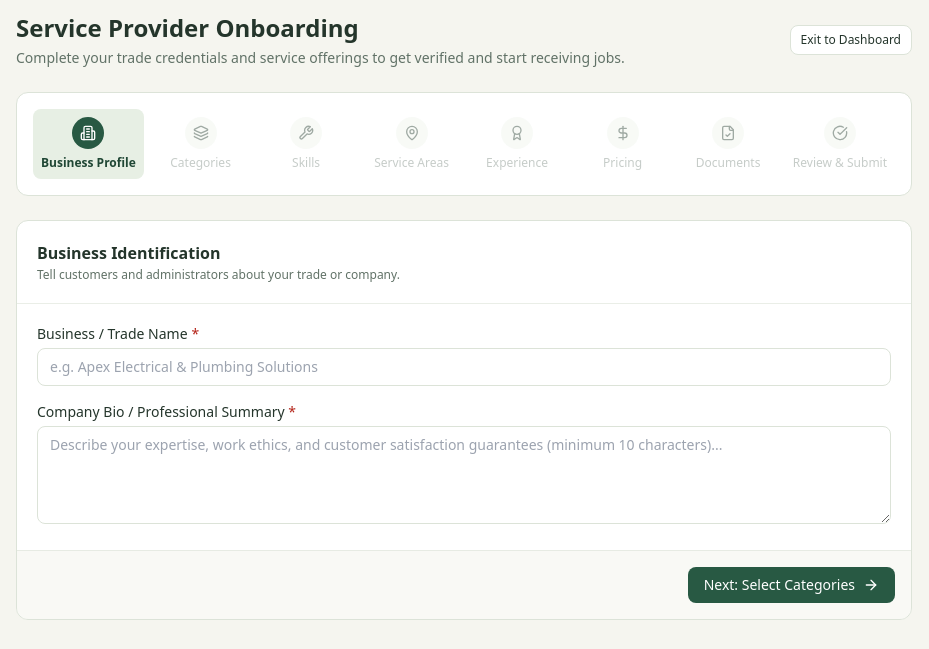
Test case: Milestone 4: Provider Onboarding, Profile & Admin Verification Frontend › ProviderOnboardingWizard: Category Selection & Resilience › should render empty state when API succeeds with zero categories
Type "Apex Co" into the field with placeholder "e.g. Apex Electrical & Plumbing Solutions" at point(464, 367), box [37,348,891,386]
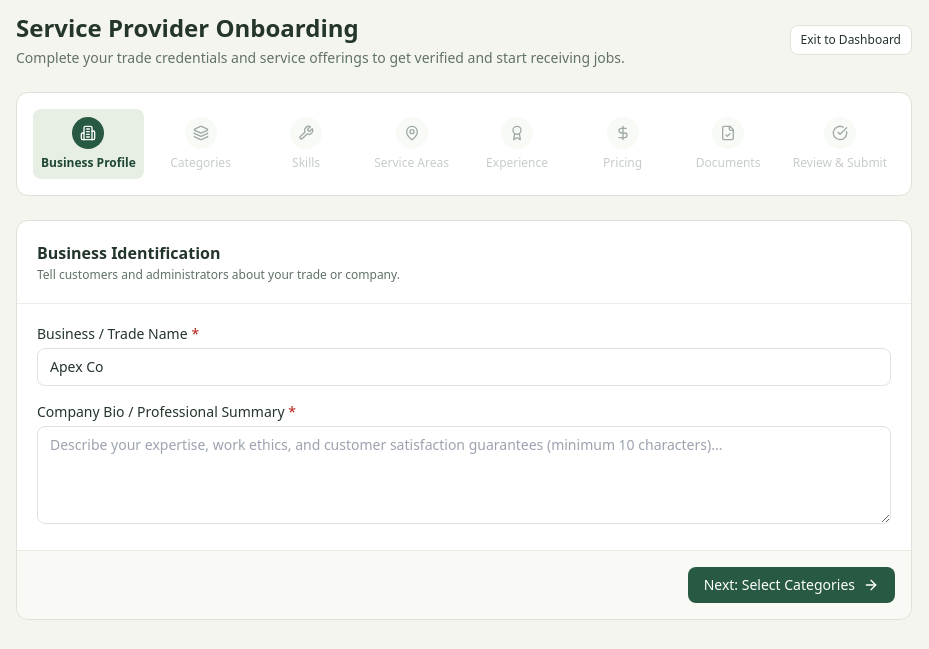
Replace the text in the text box with placeholder "Describe your expertise" with "Valid description with more than ten characters." at point(464, 475), box [37,426,891,524]
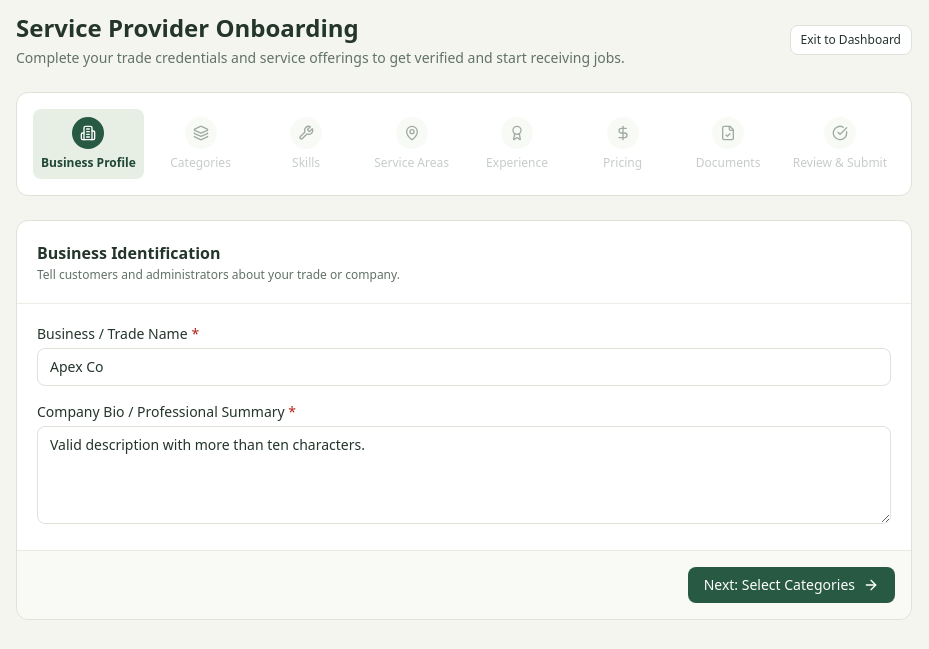
Click the button "Next: Select Categories" at point(791, 585), box [688,567,895,603]
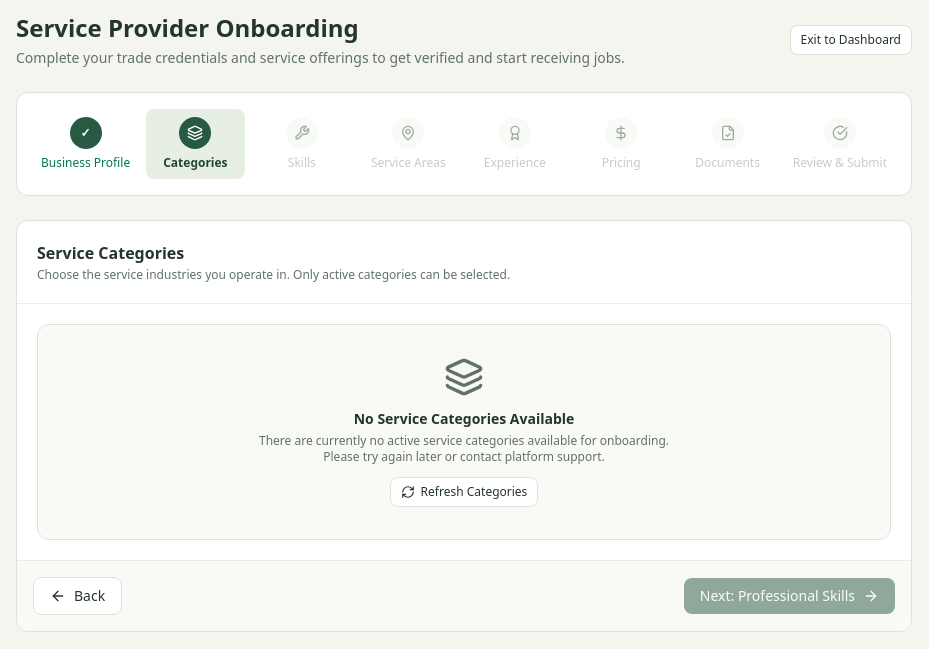
Expected: the heading "No Service Categories Available" is shown, [354,409,574,428]
Expected: the button "Refresh Categories" is shown, [390,477,538,507]
Expected: the button "Next: Professional Skills" is disabled, [684,578,895,614]
